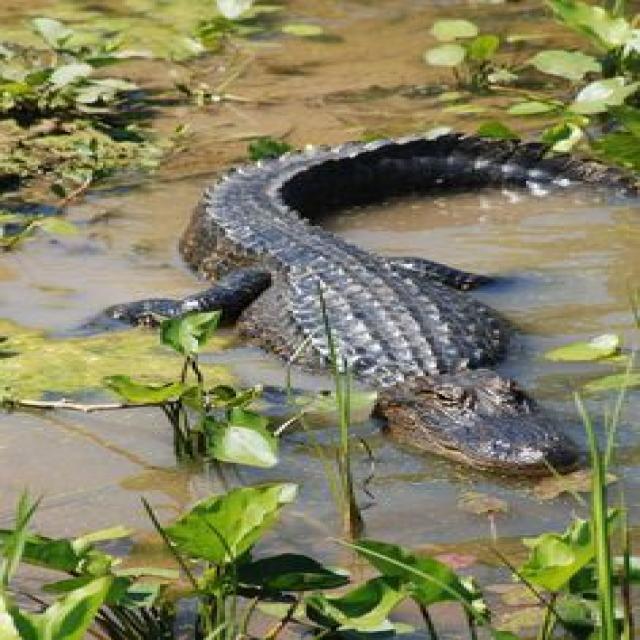Carnivorous: (100, 141, 580, 474), (179, 132, 640, 466)
